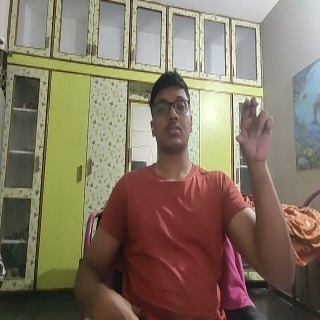No: (236, 93, 274, 168)
